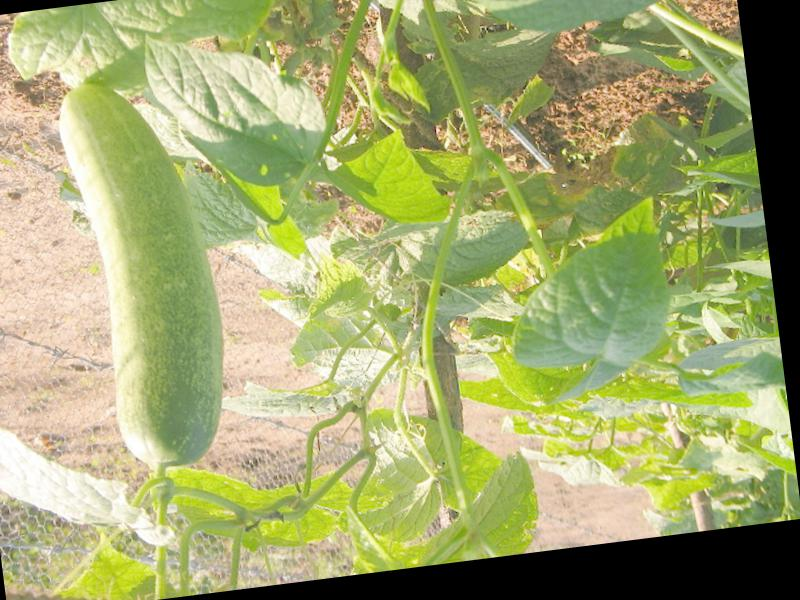Cucumber: (55, 72, 237, 473)
